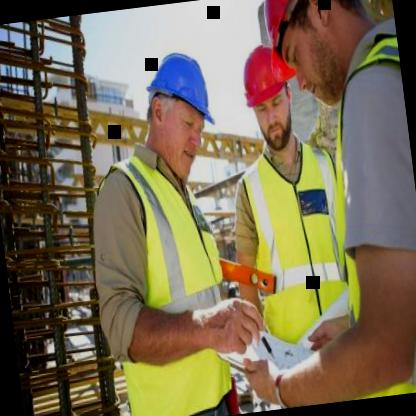helmet: (264, 0, 403, 103), (130, 34, 224, 180), (231, 30, 309, 154)
